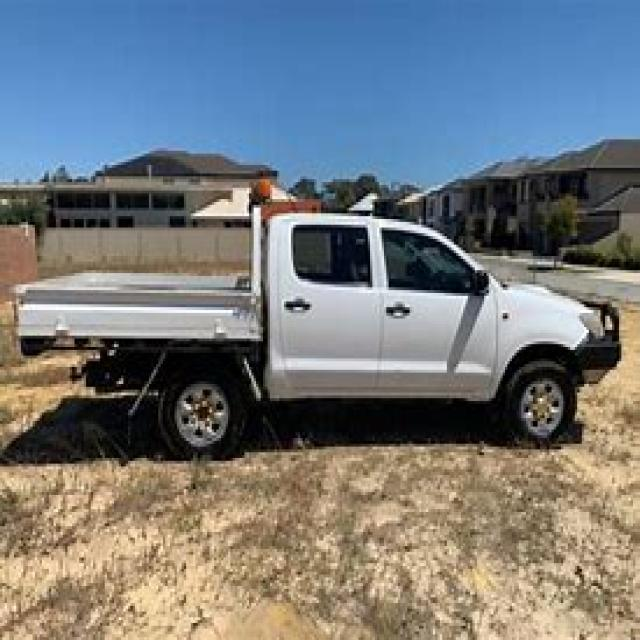light_vehicle: (9, 176, 636, 464)
